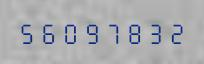eight: (122, 20, 142, 44)
five: (17, 20, 37, 44)
nine: (80, 20, 100, 44)
seven: (101, 20, 121, 44)
six: (38, 20, 58, 44)
three: (143, 20, 163, 44)
two: (164, 20, 184, 44)
zero: (59, 20, 79, 44)
